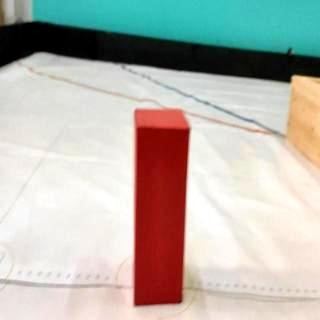redbox: (132, 107, 188, 306), (188, 304, 190, 306)
